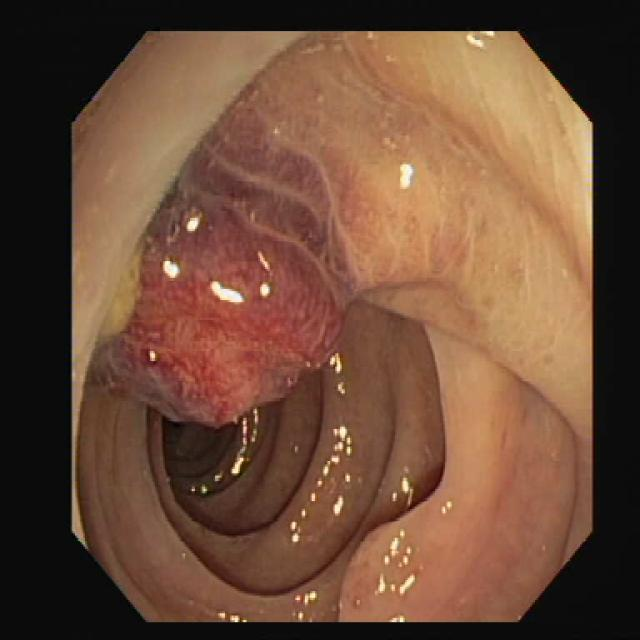tumor: (123, 173, 353, 424), (340, 524, 415, 620)
